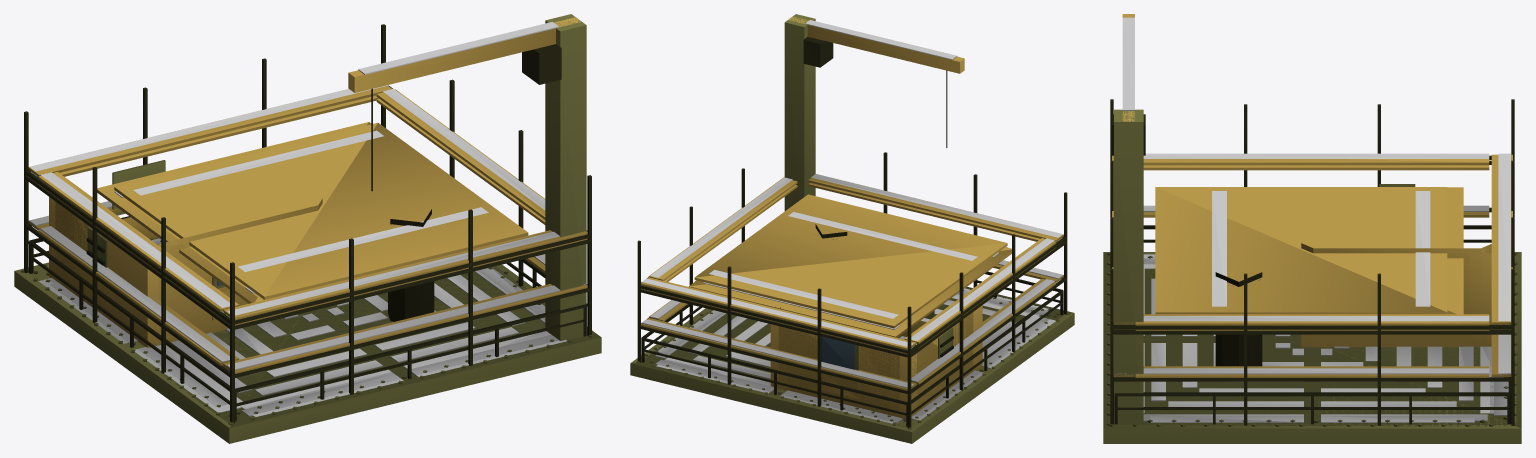
The model's file is meridian_radar_scaffolding.glb.
3 views of the same model, side by side, from view 1: azimuth 30°, elevation 25°; view 2: azimuth 150°, elevation 25°; view 3: azimuth 270°, elevation 25° (orthographic). The views are drawn at different scales.
Parts seen in each view (by area): view 1: body (×3); view 2: body (×3); view 3: body (×3).
Part boxes in pixels (left/top/right/bottom): body (×3): left=14, top=14, right=601, bottom=443; body (×3): left=630, top=14, right=1074, bottom=443; body (×3): left=1103, top=14, right=1521, bottom=443.
Bounding box in the file's own units: 7.4 × 6.22 × 7.4.
